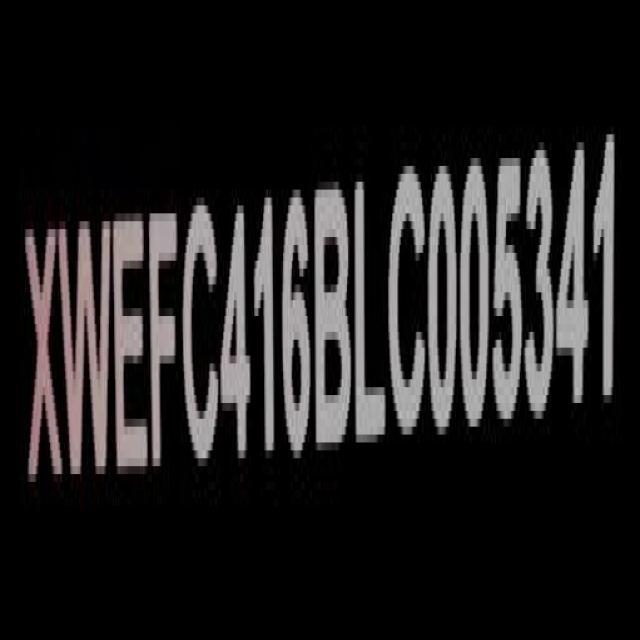0: (462, 160, 491, 440), (430, 160, 458, 444)
1: (596, 123, 620, 418), (255, 188, 278, 470)
3: (527, 143, 555, 429)
4: (555, 131, 589, 420), (222, 192, 250, 470)
5: (494, 150, 525, 433)
6: (284, 185, 316, 467)
B: (314, 177, 351, 461)
C: (388, 164, 426, 445), (186, 205, 222, 486)
E: (116, 212, 152, 492)
F: (150, 206, 182, 491)
L: (356, 170, 388, 456)
W: (61, 214, 115, 491)
X: (26, 219, 64, 497)
